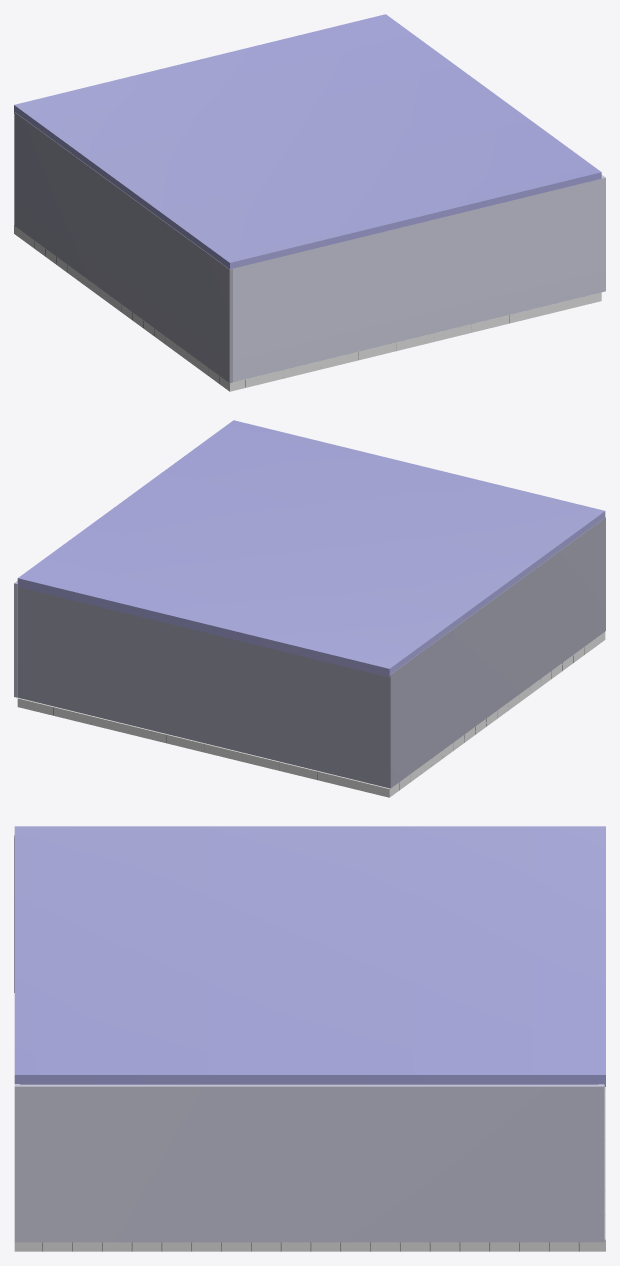
File: Office.fbx
3 renders of one model, top to bottom at view 1: azimuth 30°, elevation 25°; view 2: azimuth 150°, elevation 25°; view 3: azimuth 270°, elevation 25°, orthographic. The views are drawn at different scales.
Parts seen in each view (by area): view 1: Roof, Room.003, Room.005, Floor.001; view 2: Roof, Room.005, Floor.001; view 3: Roof, Room.003, Floor.001.
Boxes of the visible parts, x1,y1,x2,y2 form: Roof: [14, 14, 601, 269]; Room.003: [233, 175, 605, 382]; Room.005: [14, 112, 232, 383]; Floor.001: [14, 225, 601, 391]; Roof: [17, 420, 605, 677]; Room.005: [17, 517, 605, 788]; Floor.001: [17, 632, 605, 797]; Roof: [14, 826, 605, 1086]; Room.003: [14, 1084, 604, 1242]; Floor.001: [14, 1087, 605, 1251].
Size of the model in its own units: 10.18 by 3.33 by 10.12.
